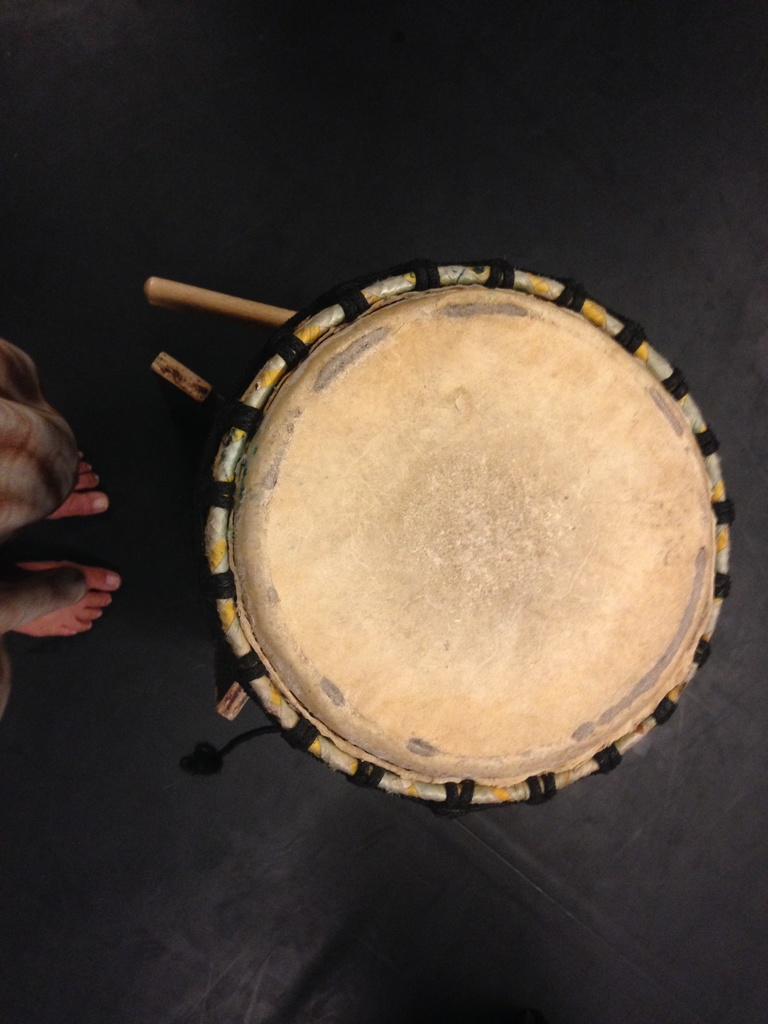person: (0, 332, 124, 784)
